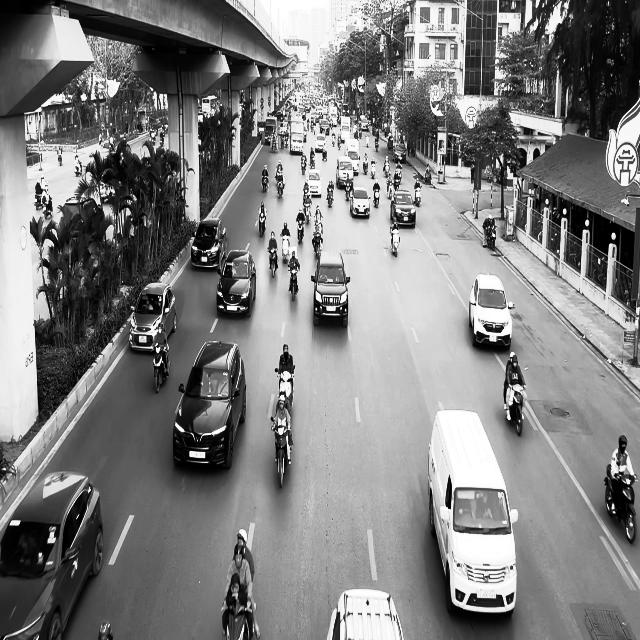car: (0, 470, 104, 639), (172, 340, 246, 470), (326, 588, 404, 640), (128, 282, 178, 353), (469, 273, 515, 350), (311, 250, 351, 327), (216, 247, 257, 317), (191, 217, 227, 272), (391, 190, 416, 228), (350, 186, 370, 218), (307, 169, 323, 196)
motorbike: (604, 466, 638, 544), (271, 418, 292, 488), (506, 382, 526, 436), (275, 365, 295, 411), (153, 342, 170, 393), (288, 264, 300, 300), (484, 223, 497, 250), (312, 230, 324, 258), (390, 224, 400, 257), (268, 247, 278, 278), (281, 235, 290, 263), (258, 210, 267, 237), (297, 218, 305, 244), (414, 183, 422, 207), (277, 175, 285, 198), (373, 185, 381, 208), (327, 186, 334, 207), (262, 172, 269, 192)
truck: (427, 408, 519, 616)
